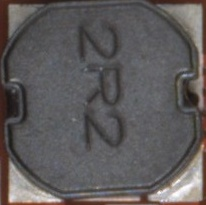Induktor: (2, 2, 201, 196)
